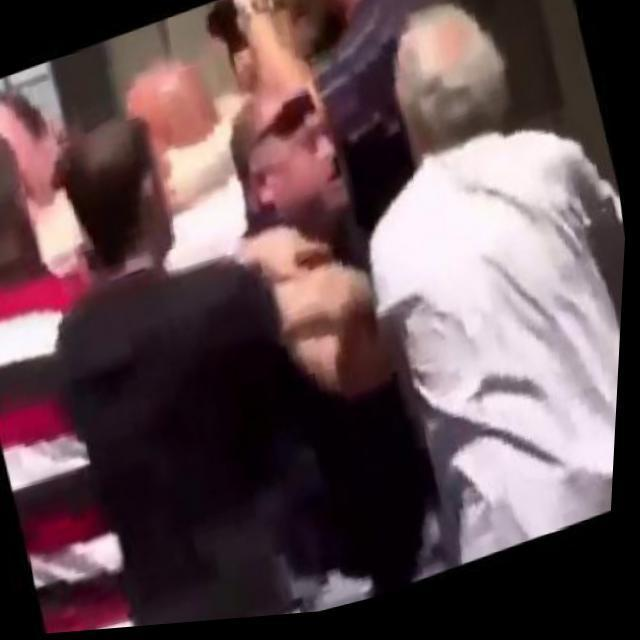fight: (10, 76, 439, 576)
